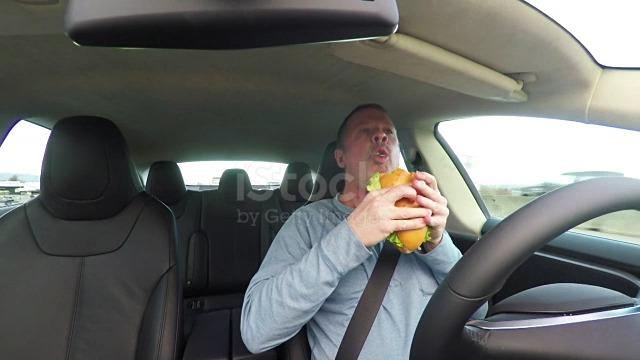Eating: (310, 96, 448, 256)
